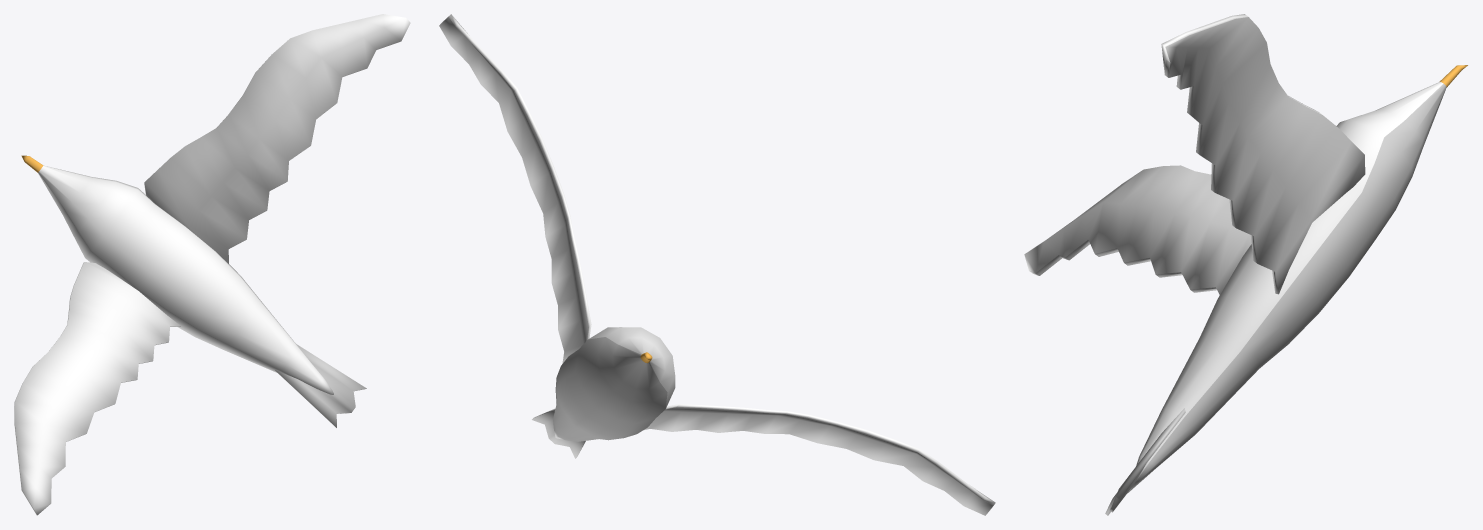
File: galeb.fbx
3 views of the same model, side by side, from view 1: azimuth 30°, elevation 25°; view 2: azimuth 150°, elevation 25°; view 3: azimuth 270°, elevation 25° (orthographic). The views are drawn at different scales.
Parts seen in each view (by area): view 1: Galeb; view 2: Galeb; view 3: Galeb.
Part boxes in pixels (bbox=[...]): Galeb: bbox=[14, 14, 410, 515]; Galeb: bbox=[439, 14, 995, 515]; Galeb: bbox=[1024, 14, 1467, 515].
Bounding box in the file's own units: 1467 × 1229 × 926.
